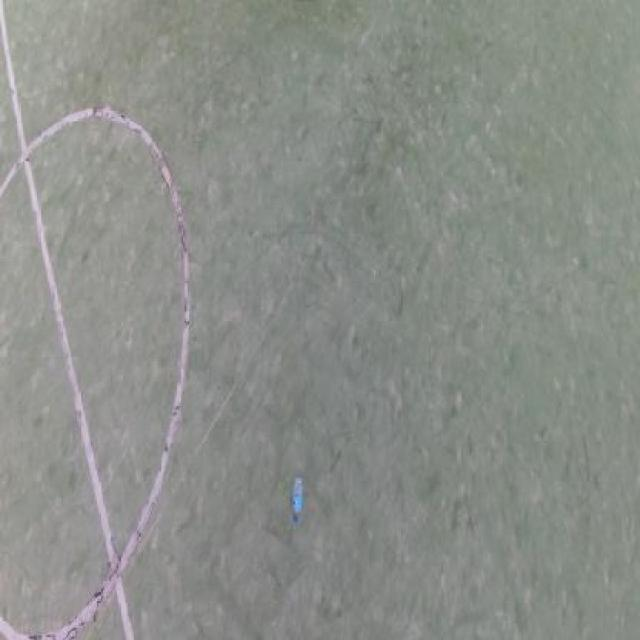Garbage: (292, 476, 303, 522)
